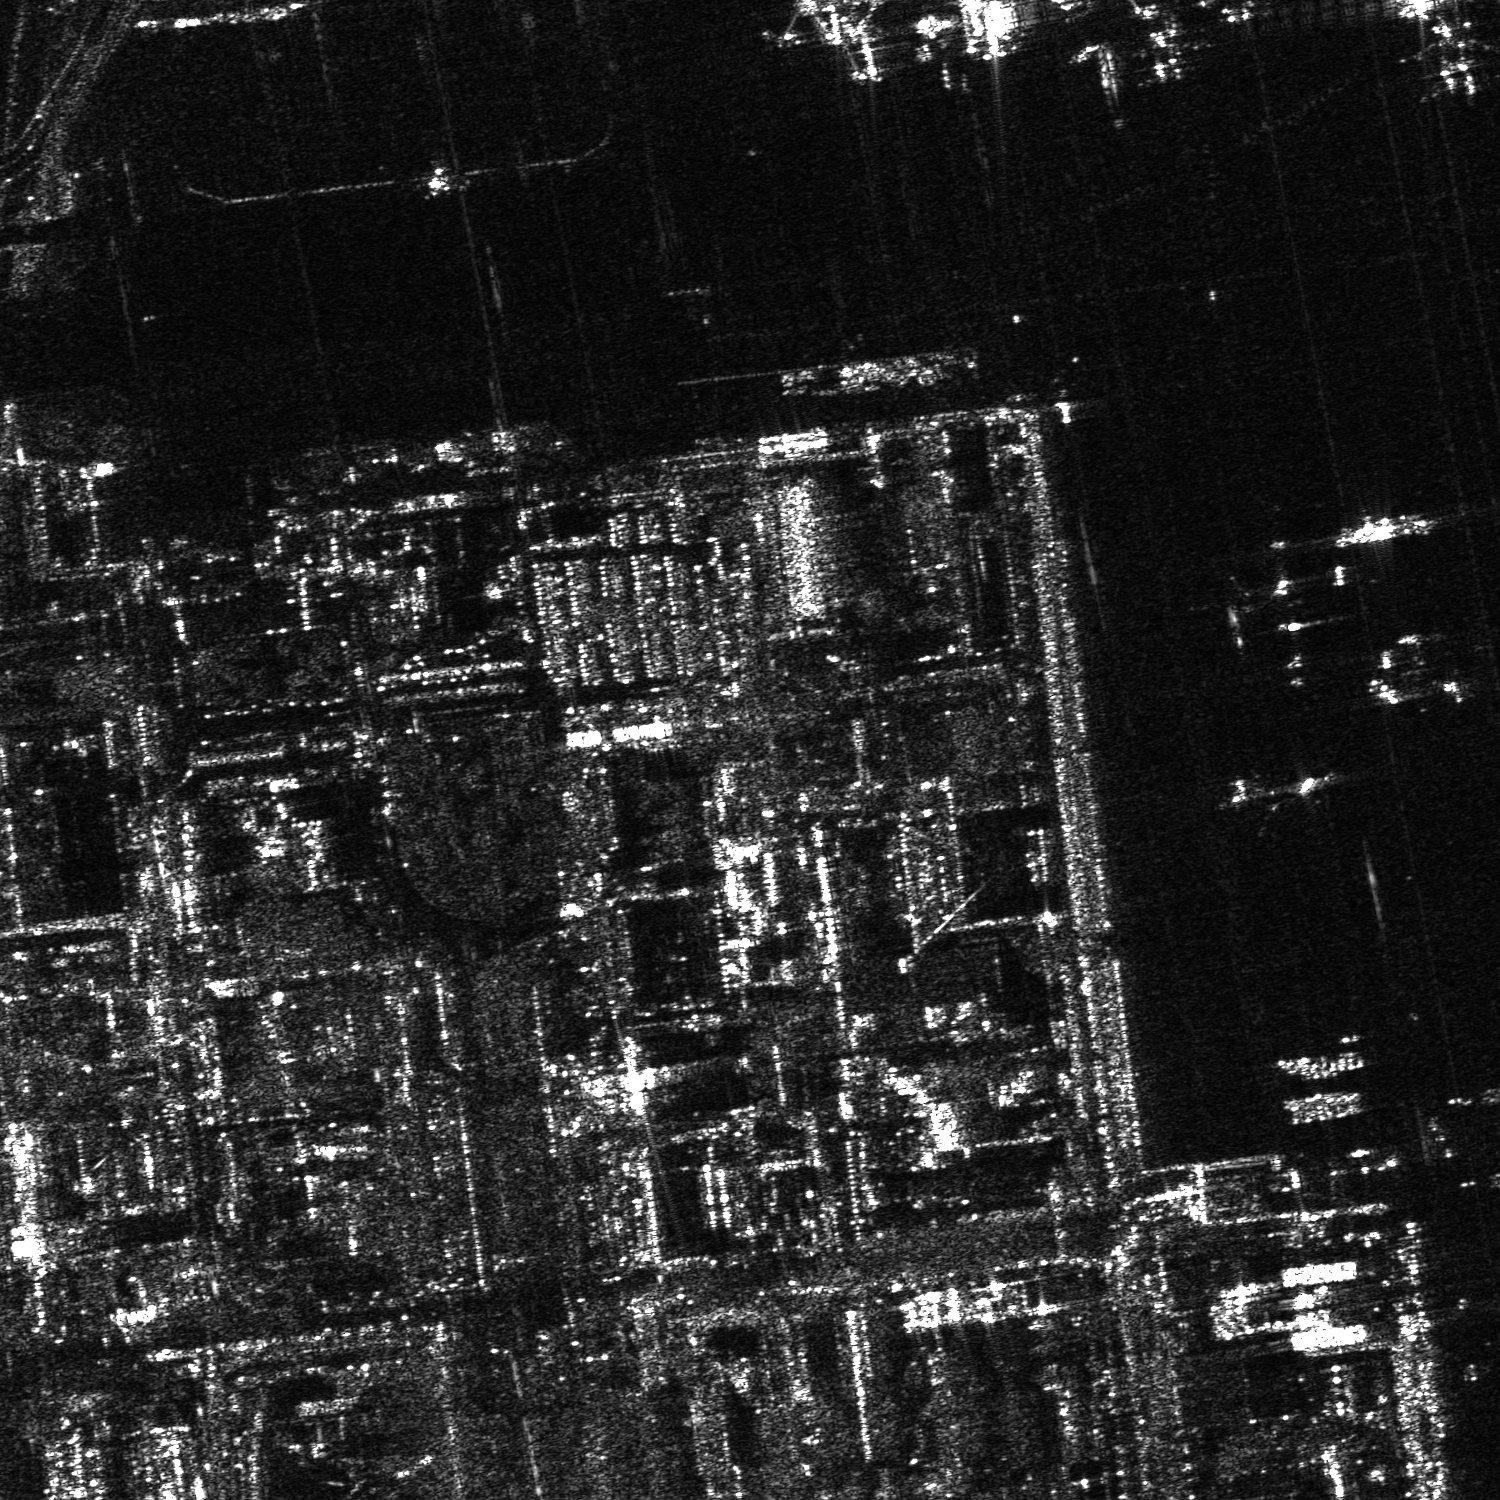Boeing737: (1401, 12, 1499, 102)
